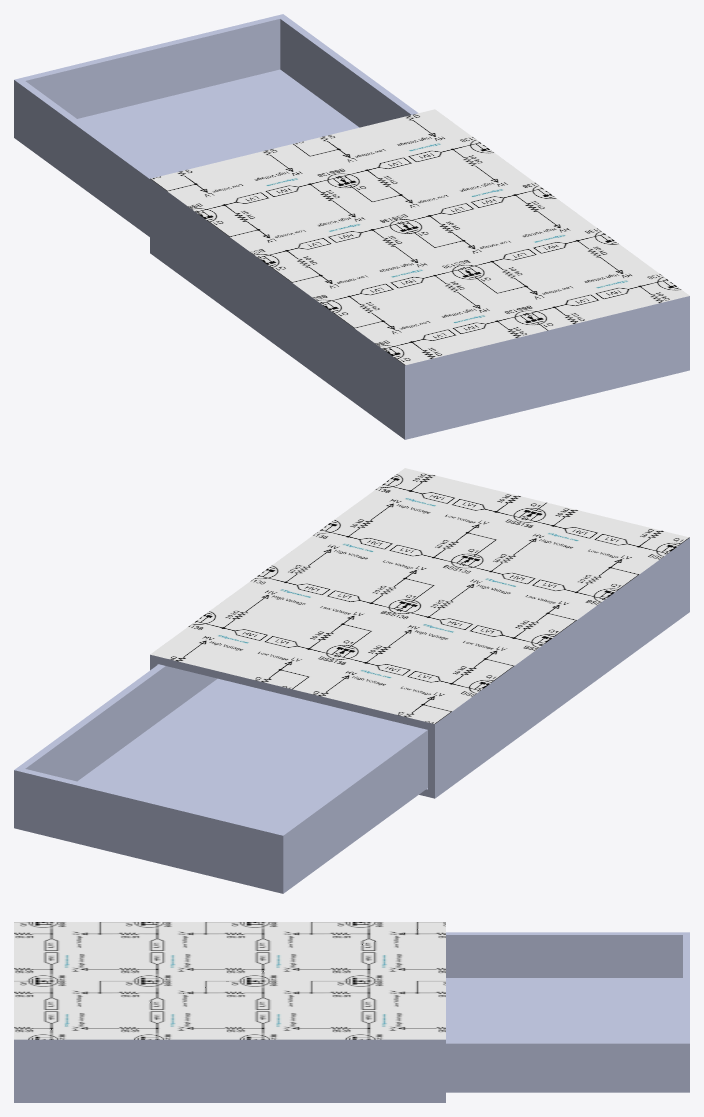
The model's file is ddd.glb.
3 renders of one model, top to bottom at view 1: azimuth 30°, elevation 25°; view 2: azimuth 150°, elevation 25°; view 3: azimuth 270°, elevation 25°, orthographic. The views are drawn at different scales.
Visible parts, largest first — view 1: Varsayılan - Parça, Varsayılan - Parça 2; view 2: Varsayılan - Parça, Varsayılan - Parça 2; view 3: Varsayılan - Parça, Varsayılan - Parça 2.
Boxes of the visible parts, <box> form: Varsayılan - Parça: <box>14,14,689,439</box>; Varsayılan - Parça 2: <box>150,109,689,365</box>; Varsayılan - Parça: <box>14,538,689,893</box>; Varsayılan - Parça 2: <box>150,468,689,723</box>; Varsayılan - Parça: <box>14,932,689,1102</box>; Varsayılan - Parça 2: <box>14,922,445,1039</box>.
Size of the model in its own units: 0.04 by 0.01 by 0.097.
Materials: 2 (1 with a texture image).
